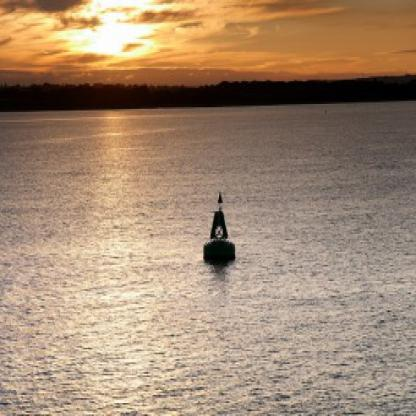buoy: (199, 184, 240, 272)
